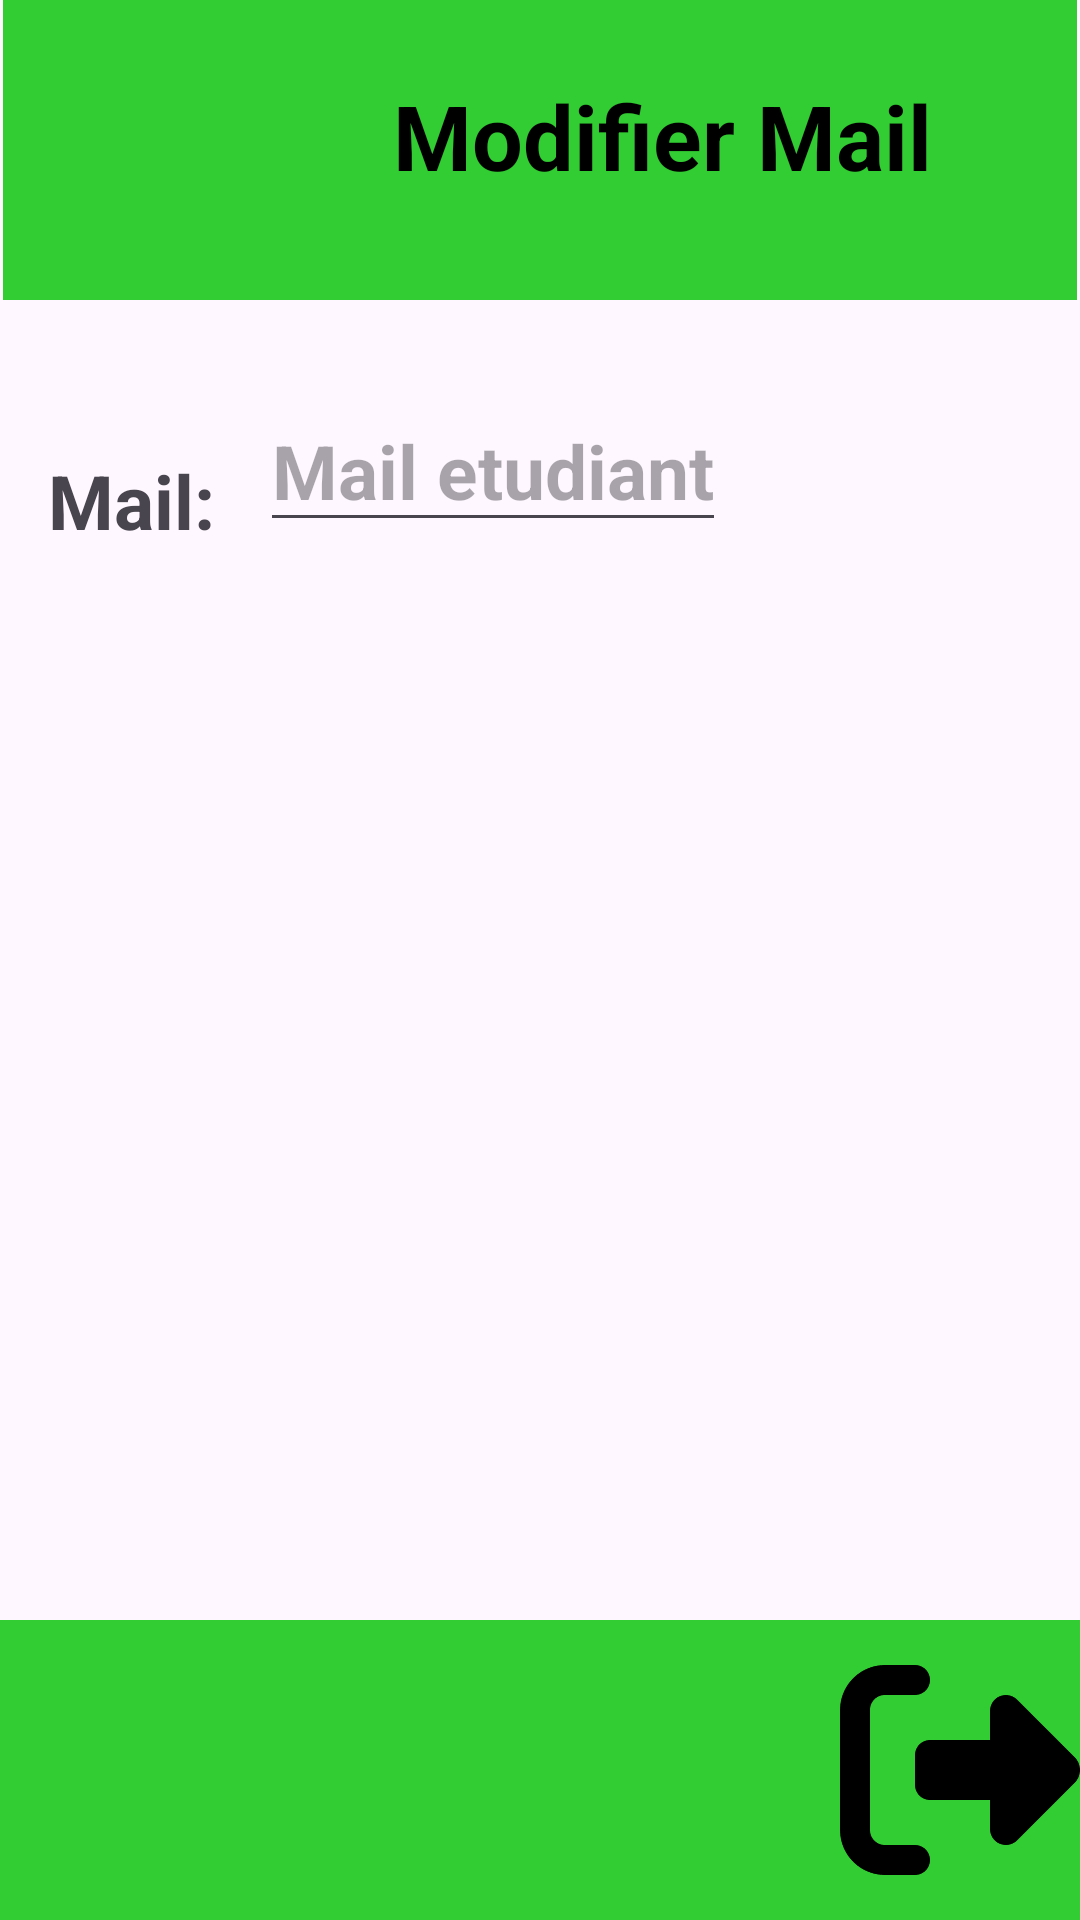

Icon click points for this 1080*1920 phone screenshot, format (x=x, y=y):
escape: (x=960, y=1770)
